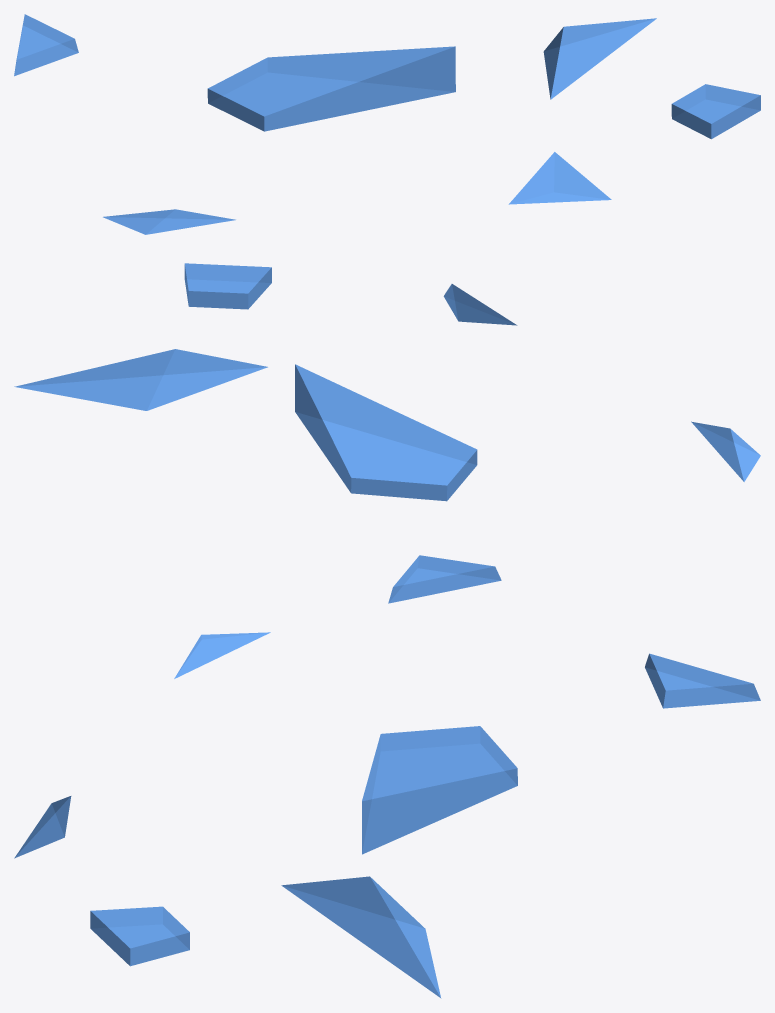
Rendered from Crystals_s_05.fbx.
The picture shows the model from 3 angles, top to bottom: view 1: azimuth 30°, elevation 25°; view 2: azimuth 150°, elevation 25°; view 3: azimuth 270°, elevation 25°; orthographic projection. The views are drawn at different scales.
Parts seen in each view (by area): view 1: Crystals_s_05; view 2: Crystals_s_05; view 3: Crystals_s_05.
Boxes of the visible parts, x1,y1,x2,y2 form: Crystals_s_05: (14, 14, 760, 234); Crystals_s_05: (14, 263, 760, 603); Crystals_s_05: (14, 632, 760, 998).
Bounding box in the file's own units: 102 × 8.46 × 90.56.
